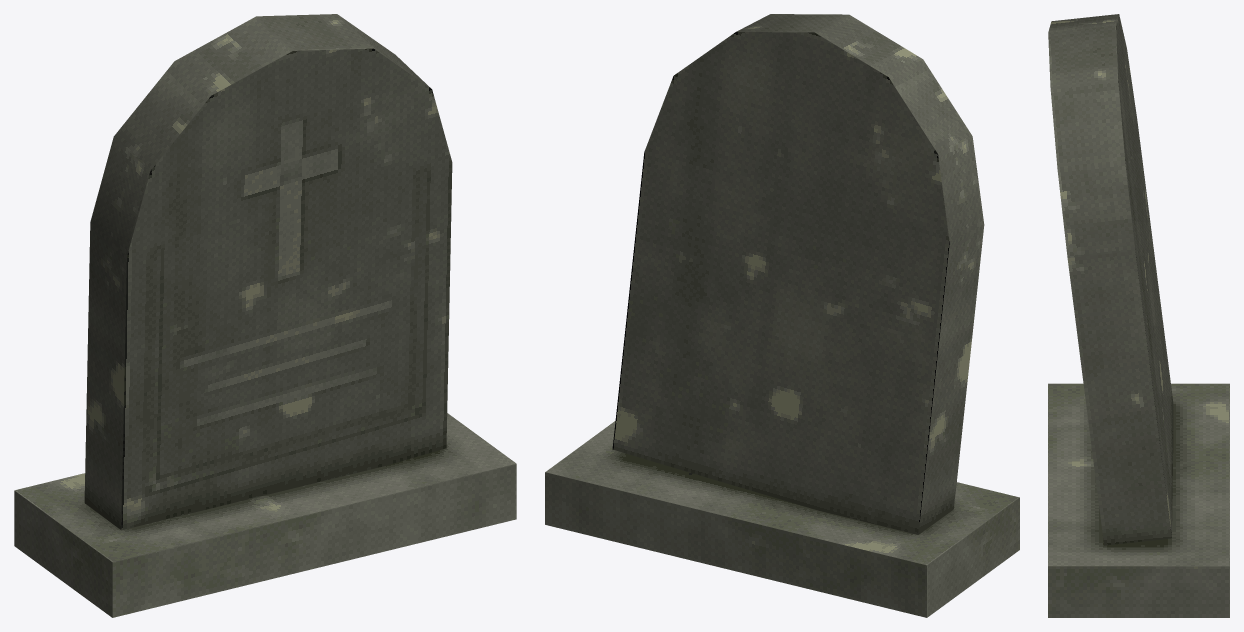
The model's file is Gravestone_Rounded_01.glb.
3 views of the same model, side by side, from view 1: azimuth 30°, elevation 25°; view 2: azimuth 150°, elevation 25°; view 3: azimuth 270°, elevation 25° (orthographic). The views are drawn at different scales.
Parts seen in each view (by area): view 1: Gravestone_Rounded_01; view 2: Gravestone_Rounded_01; view 3: Gravestone_Rounded_01.
Part boxes in pixels (<box>): Gravestone_Rounded_01: <box>14,14,516,617</box>; Gravestone_Rounded_01: <box>545,14,1019,617</box>; Gravestone_Rounded_01: <box>1048,14,1229,617</box>.
Bounding box in the file's own units: 0.76 × 0.9535 × 0.32.
Materials: 1 (1 with a texture image).
